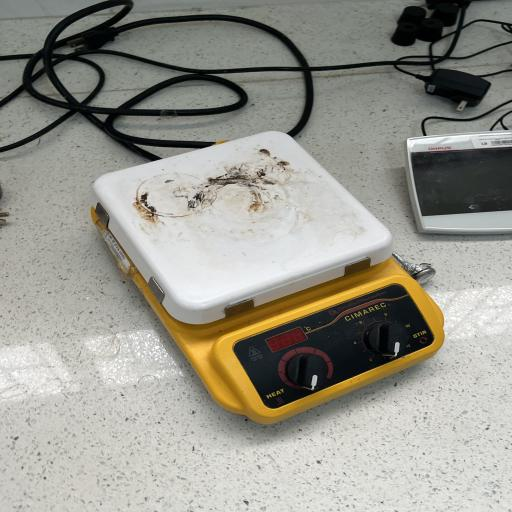Plancha_Agitacion_Cimarec: (86, 124, 450, 438)
